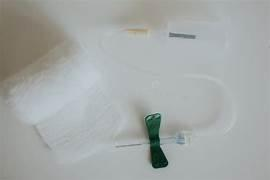cotton: (1, 42, 120, 161)
